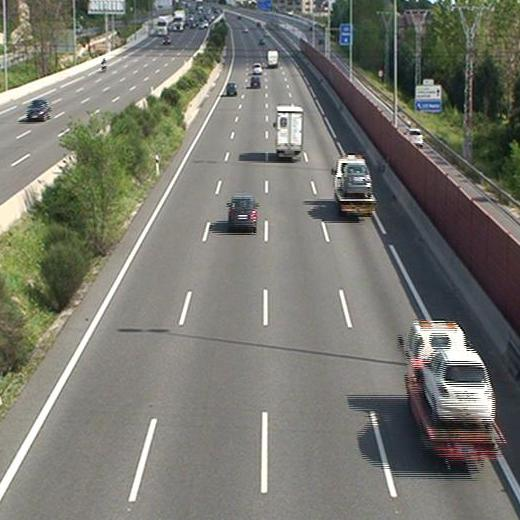car: (419, 351, 494, 424), (228, 195, 260, 232), (341, 162, 373, 193), (224, 82, 239, 97), (252, 63, 264, 75), (250, 75, 261, 87)
small-truck: (396, 319, 509, 458), (331, 156, 381, 219), (272, 106, 304, 156)
van: (265, 50, 279, 69)
